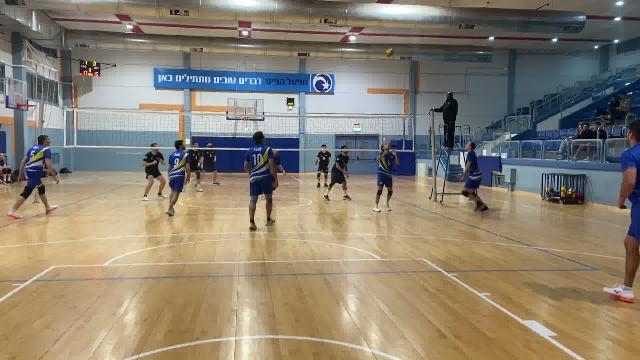ball: (383, 44, 396, 59)
